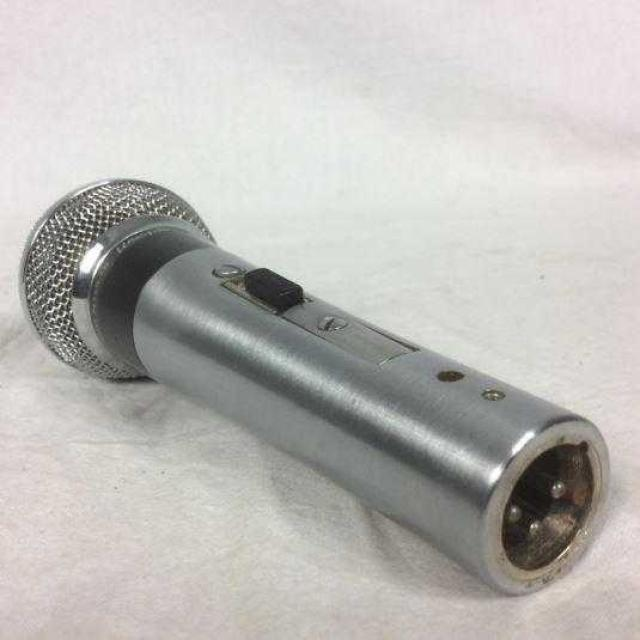microphone: (22, 184, 594, 592)
